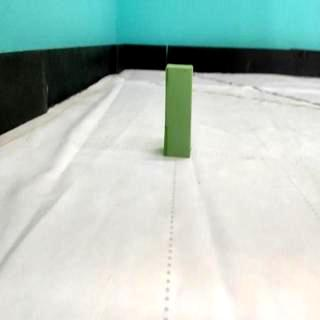greenbox: (165, 64, 195, 157)
